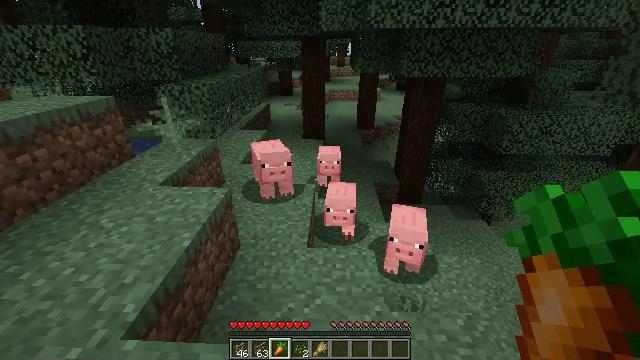pig: (380, 204, 427, 274), (252, 138, 294, 198), (323, 182, 357, 239), (318, 146, 341, 188)
